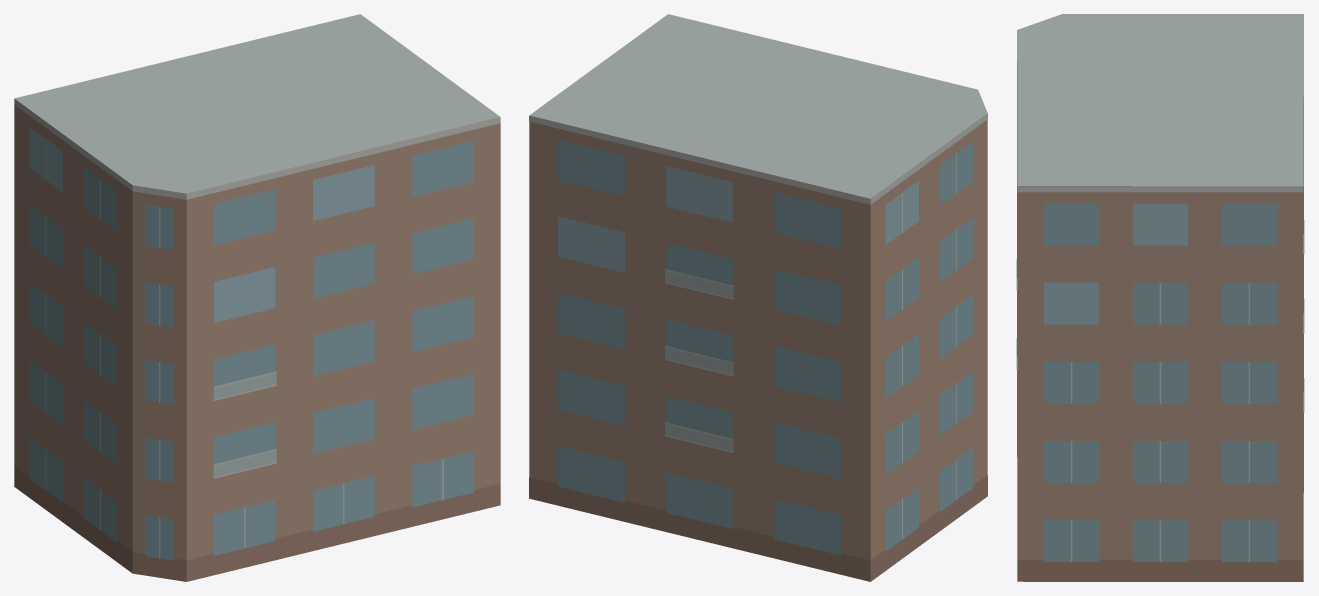
File: survey-upis-32908902.glb
3 views of the same model, side by side, from view 1: azimuth 30°, elevation 25°; view 2: azimuth 150°, elevation 25°; view 3: azimuth 270°, elevation 25° (orthographic). The views are drawn at different scales.
Parts seen in each view (by area): view 1: survey-upis-32908902.tmp; view 2: survey-upis-32908902.tmp; view 3: survey-upis-32908902.tmp.
Boxes of the visible parts, x1,y1,x2,y2 form: survey-upis-32908902.tmp: (14, 14, 500, 581); survey-upis-32908902.tmp: (529, 14, 987, 581); survey-upis-32908902.tmp: (1016, 14, 1304, 581).
Size of the model in its own units: 14.48 by 15.5 by 10.26.
